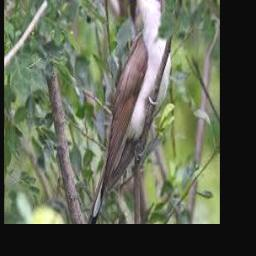Cuckoo: (90, 0, 170, 222)
